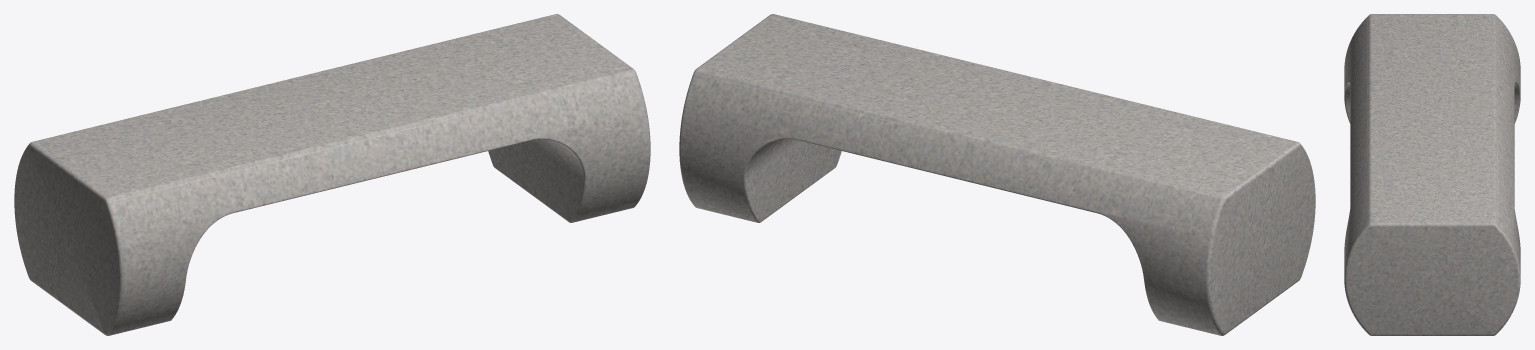
The model's file is brench2.obj.
The picture shows the model from 3 angles, left to right: view 1: azimuth 30°, elevation 25°; view 2: azimuth 150°, elevation 25°; view 3: azimuth 270°, elevation 25°; orthographic projection. The views are drawn at different scales.
Visible parts, largest first — view 1: Circle_003; view 2: Circle_003; view 3: Circle_003.
Part boxes in pixels (x1,y1,x2,y2): Circle_003: [14, 14, 650, 335]; Circle_003: [679, 14, 1315, 335]; Circle_003: [1344, 14, 1520, 335].
Size of the model in its own units: 13.08 by 3.27 by 4.62.
